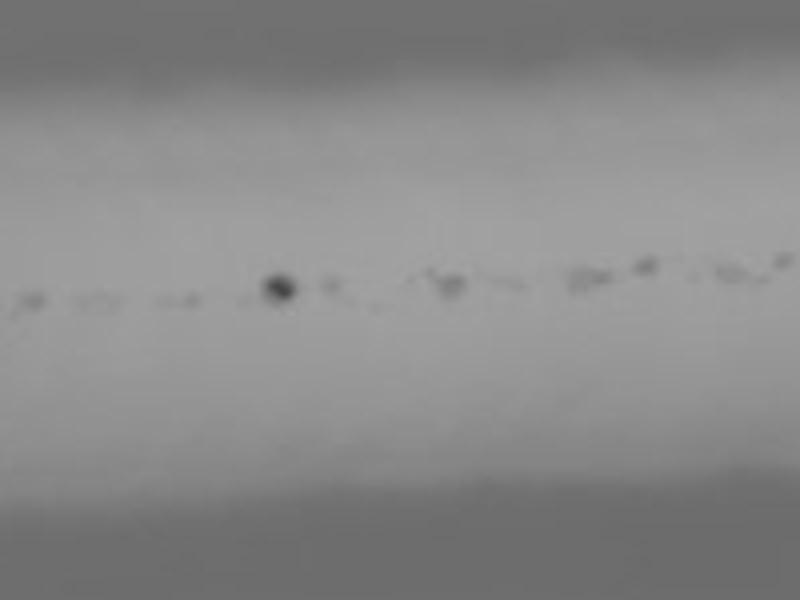defect: (481, 265, 529, 296), (564, 264, 613, 290), (261, 273, 295, 302), (152, 290, 204, 308), (436, 271, 464, 303), (716, 257, 746, 283), (634, 251, 664, 275), (13, 289, 44, 311), (769, 247, 794, 271), (748, 269, 773, 289), (366, 300, 392, 318), (323, 278, 342, 294), (420, 263, 432, 282)
